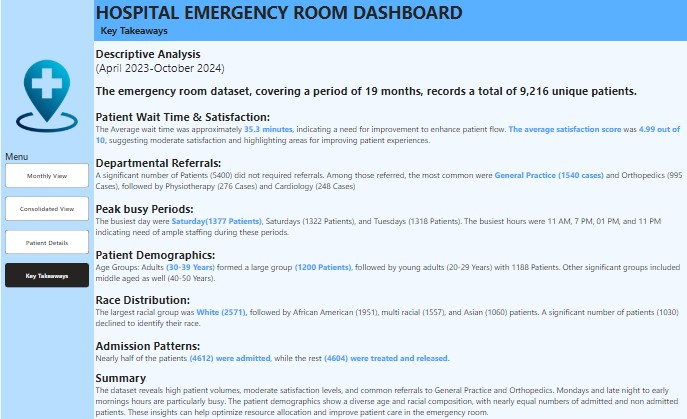

What the dashboard file says about the page in this screenshot:
{"tool":"powerbi","page":{"name":"Key Takeaways","canvas":[2300,1400],"ordinal":3},"visuals":[{"type":"shape","box":[9.1,0,310,1400.5],"z":0},{"type":"shape","box":[319.9,0,1980.1,140],"z":1000},{"type":"textbox","box":[320.6,0,1441.2,120.6],"z":2000},{"type":"textbox","box":[336.7,76.7,380,63.3],"z":3000},{"type":"slicer","fields":{"Values":["Date table.Date"]},"box":[1723.3,10,526.7,120],"z":4000},{"type":"image","box":[36.7,93.3,253.3,460],"z":5000},{"type":"textbox","box":[320,148.6,1980,128.6],"z":6000},{"type":"textbox","box":[320,272.9,1980,91.4],"z":7000},{"type":"textbox","box":[320,360,1980,157.1],"z":8000},{"type":"textbox","box":[320,512.9,1980,157.1],"z":9000},{"type":"textbox","box":[320,665.7,1980,157.1],"z":10000},{"type":"textbox","box":[320,818.6,1980,157.1],"z":11000},{"type":"textbox","box":[320,971.4,1980,157.1],"z":12000},{"type":"textbox","box":[320,1124.3,1980,108.6],"z":13000},{"type":"textbox","box":[320,1228.6,1980,171.4],"z":14000},{"type":"pageNavigator","title":"Menu","box":[23.3,503.3,280,460],"z":14001}]}

Visuals, with their boxes in screenshot pixels (x1, y1, x2, y2), scaled from the page's 2300x1400 canvas onto the 687x419 screenshot:
shape: crop(3, 0, 95, 418)
shape: crop(96, 0, 686, 42)
textbox: crop(96, 0, 526, 36)
textbox: crop(101, 23, 214, 42)
slicer - Date table.Date: crop(515, 3, 672, 39)
image: crop(11, 28, 87, 166)
textbox: crop(96, 44, 686, 83)
textbox: crop(96, 82, 686, 109)
textbox: crop(96, 108, 686, 155)
textbox: crop(96, 154, 686, 201)
textbox: crop(96, 199, 686, 246)
textbox: crop(96, 245, 686, 292)
textbox: crop(96, 291, 686, 338)
textbox: crop(96, 336, 686, 369)
textbox: crop(96, 368, 686, 418)
"Menu" pageNavigator: crop(7, 151, 91, 288)
